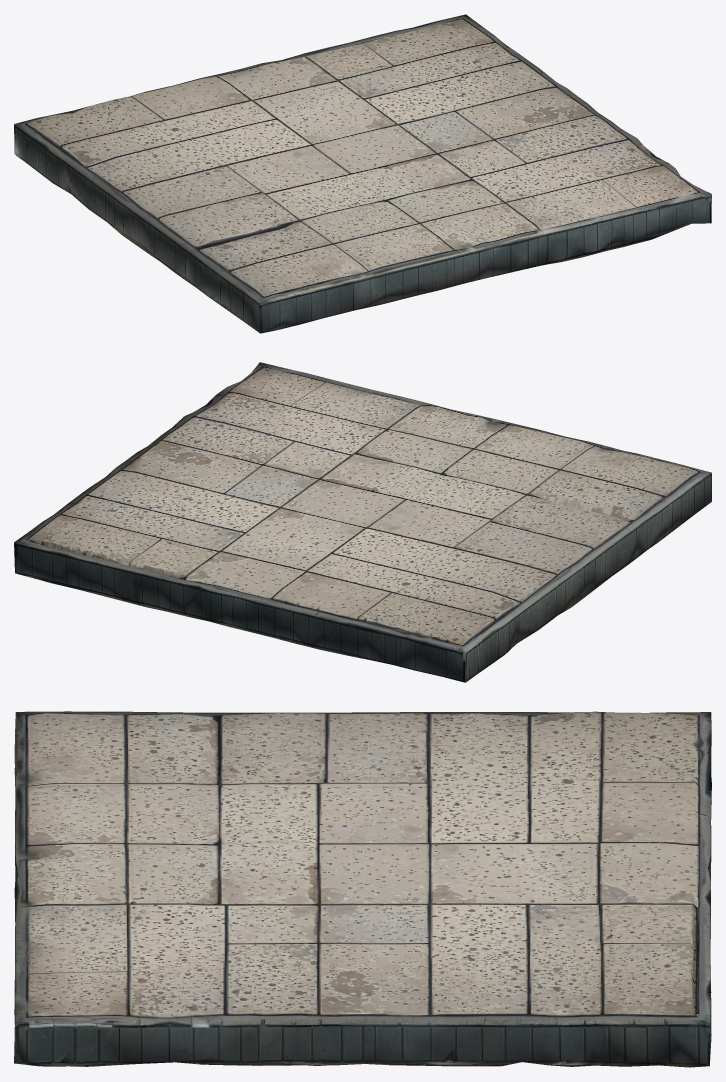
The model's file is EX_Lab_Floor.fbx.
The picture shows the model from 3 angles, top to bottom: view 1: azimuth 30°, elevation 25°; view 2: azimuth 150°, elevation 25°; view 3: azimuth 270°, elevation 25°; orthographic projection. The views are drawn at different scales.
Visible parts, largest first — view 1: texture_mapping; view 2: texture_mapping; view 3: texture_mapping.
Part boxes in pixels (x1,y1,x2,y2): texture_mapping: (14,14,711,333); texture_mapping: (14,362,711,682); texture_mapping: (14,711,711,1067).
Size of the model in its own units: 1 by 0.9449 by 0.0819.
1 material, 1 textured.
